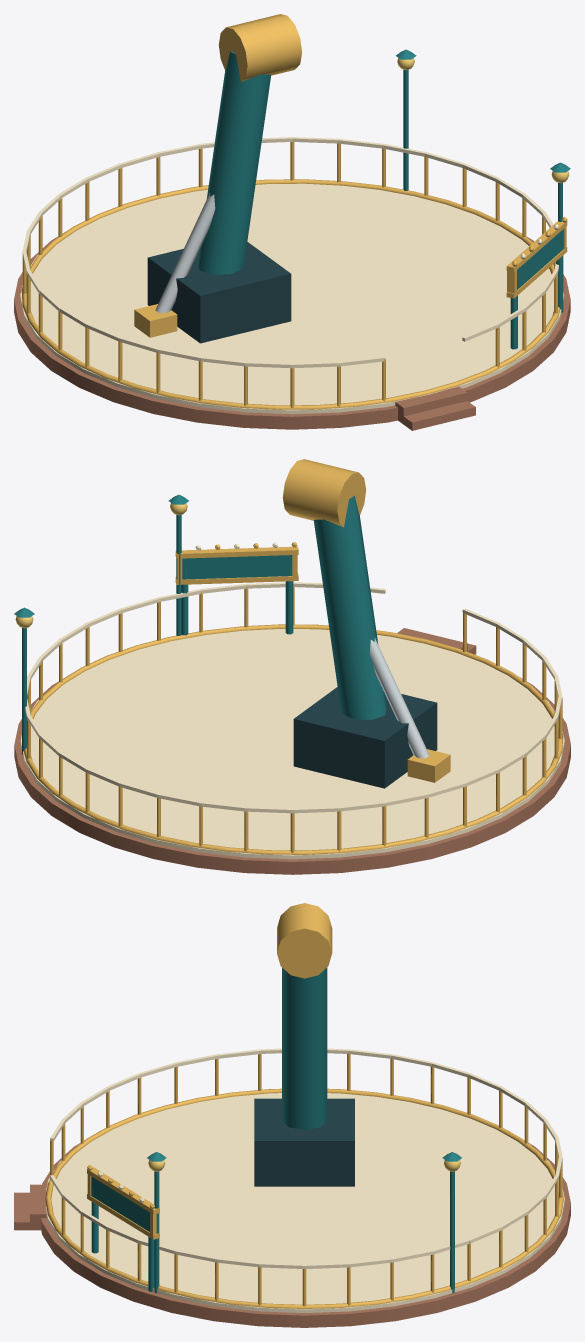
File: ride_enterprise.glb
The picture shows the model from 3 angles, top to bottom: view 1: azimuth 30°, elevation 25°; view 2: azimuth 150°, elevation 25°; view 3: azimuth 270°, elevation 25°; orthographic projection. The views are drawn at different scales.
Visible parts, largest first — view 1: ride_enterprise; view 2: ride_enterprise; view 3: ride_enterprise.
Boxes of the visible parts, left/top/right/bottom form: ride_enterprise: left=14, top=14, right=570, bottom=430; ride_enterprise: left=14, top=459, right=570, bottom=874; ride_enterprise: left=14, top=903, right=570, bottom=1327.
Bounding box in the file's own units: 10.6 × 6.25 × 11.08.
